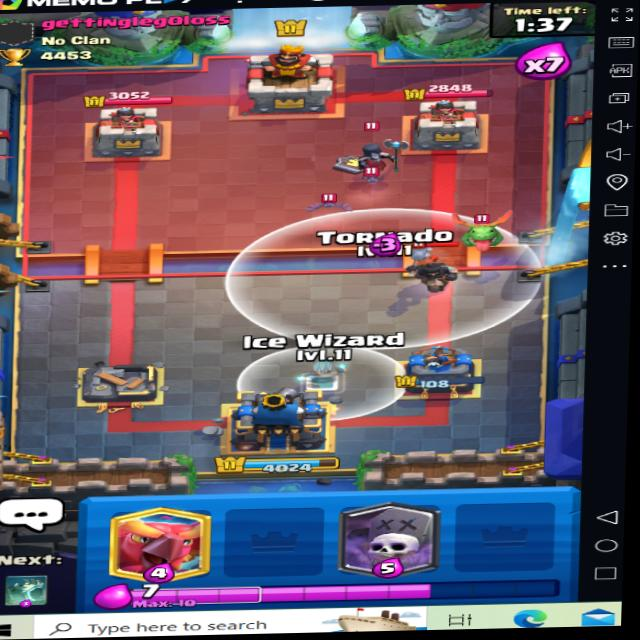baby-dragon: (450, 207, 513, 248)
bats: (315, 194, 348, 215), (362, 164, 388, 184)
dark-prince: (398, 231, 468, 291)
night-witch: (354, 128, 402, 181)
